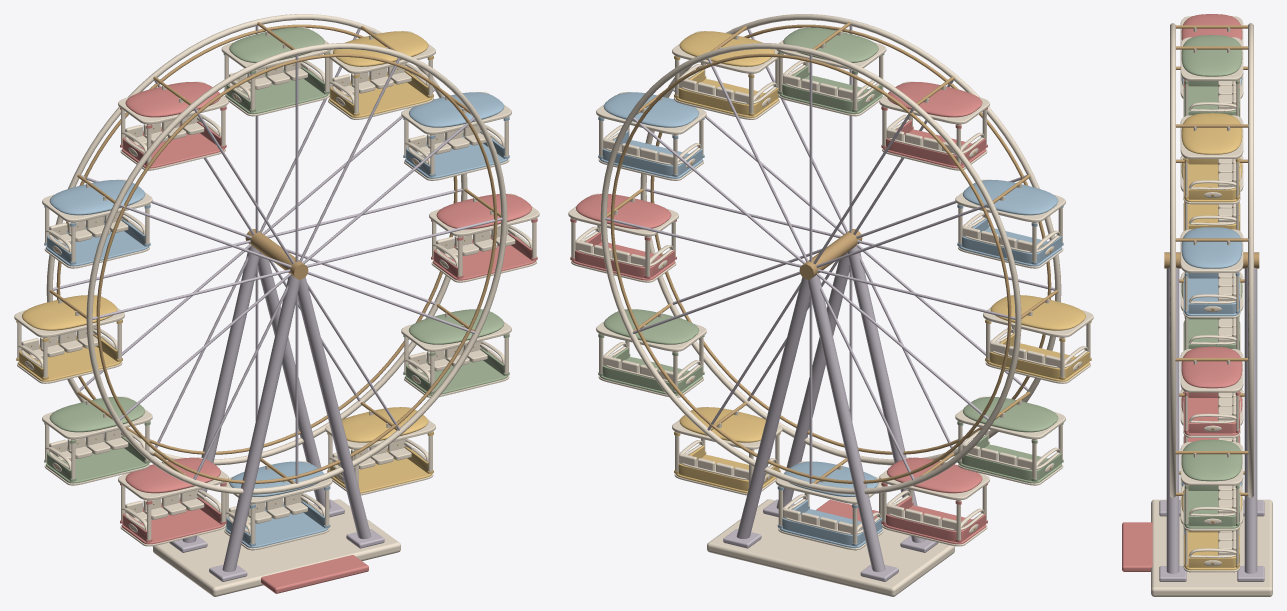
The model's file is ferris.glb.
The picture shows the model from 3 angles, left to right: view 1: azimuth 30°, elevation 25°; view 2: azimuth 150°, elevation 25°; view 3: azimuth 270°, elevation 25°; orthographic projection. The views are drawn at different scales.
Parts seen in each view (by area): view 1: pillow shaped canopy (×12), rounded rim (×4), wide boarding floor (×12), A frame (×4), foundation, radial spoke (×8), rounded canopy rim (×6), boarding step, axle; view 2: pillow shaped canopy (×12), rounded rim (×4), A frame (×4), continuous curved lower body (×12), foundation, radial spoke (×8), rounded canopy rim (×6), axle; view 3: pillow shaped canopy (×6), wide boarding floor (×8), A frame (×2), rounded rim (×2), foundation, continuous curved lower body (×8), rounded canopy rim (×5), gondola pivot (×6), boarding step, ivory floor bumper (×5), rounded panel (×2), axle.
Boxes of the visible parts, x1=… form: pillow shaped canopy (×12): x1=22, y1=27, x2=531, y2=496; rounded rim (×4): x1=46, y1=14, x2=507, y2=494; wide boarding floor (×12): x1=18, y1=78, x2=535, y2=548; A frame (×4): x1=182, y1=245, x2=371, y2=572; foundation: x1=153, y1=499, x2=400, y2=596; radial spoke (×8): x1=92, y1=55, x2=502, y2=483; rounded canopy rim (×6): x1=14, y1=92, x2=539, y2=439; boarding step: x1=261, y1=555, x2=368, y2=593; axle: x1=245, y1=229, x2=308, y2=279; pillow shaped canopy (×12): x1=576, y1=27, x2=1085, y2=496; rounded rim (×4): x1=600, y1=14, x2=1061, y2=494; A frame (×4): x1=736, y1=245, x2=925, y2=572; continuous curved lower body (×12): x1=575, y1=66, x2=1089, y2=545; foundation: x1=707, y1=499, x2=954, y2=596; radial spoke (×8): x1=605, y1=55, x2=1015, y2=483; rounded canopy rim (×6): x1=568, y1=92, x2=1093, y2=439; axle: x1=799, y1=229, x2=862, y2=279; pillow shaped canopy (×6): x1=1181, y1=14, x2=1242, y2=481; wide boarding floor (×8): x1=1184, y1=85, x2=1239, y2=570; A frame (×2): x1=1166, y1=267, x2=1257, y2=573; rounded rim (×2): x1=1170, y1=23, x2=1253, y2=497; foundation: x1=1151, y1=499, x2=1272, y2=596; continuous curved lower body (×8): x1=1188, y1=80, x2=1239, y2=567; rounded canopy rim (×5): x1=1180, y1=37, x2=1243, y2=485; gondola pivot (×6): x1=1175, y1=25, x2=1248, y2=454; boarding step: x1=1122, y1=522, x2=1152, y2=571; ivory floor bumper (×5): x1=1183, y1=166, x2=1240, y2=572; rounded panel (×2): x1=1159, y1=566, x2=1264, y2=581; axle: x1=1164, y1=252, x2=1259, y2=268.
Bounding box in the file's own units: 27.96 × 27.6 × 7.42.
